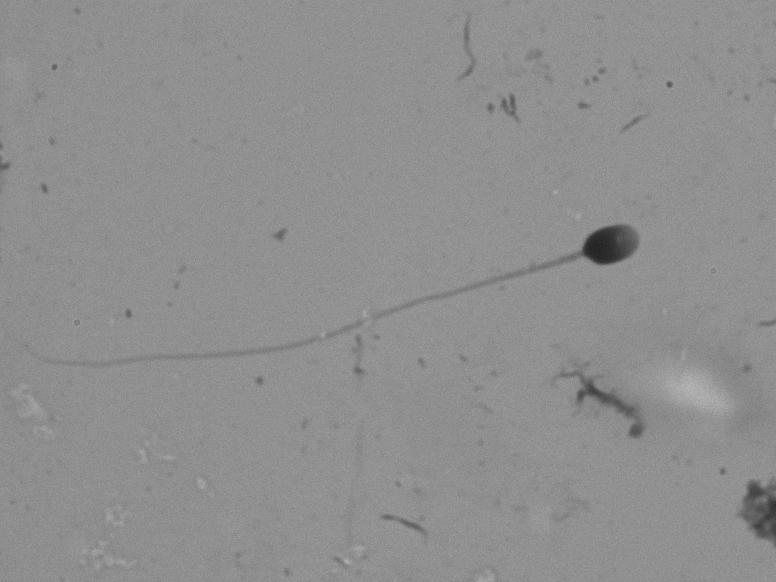Normal: (8, 188, 661, 380)
